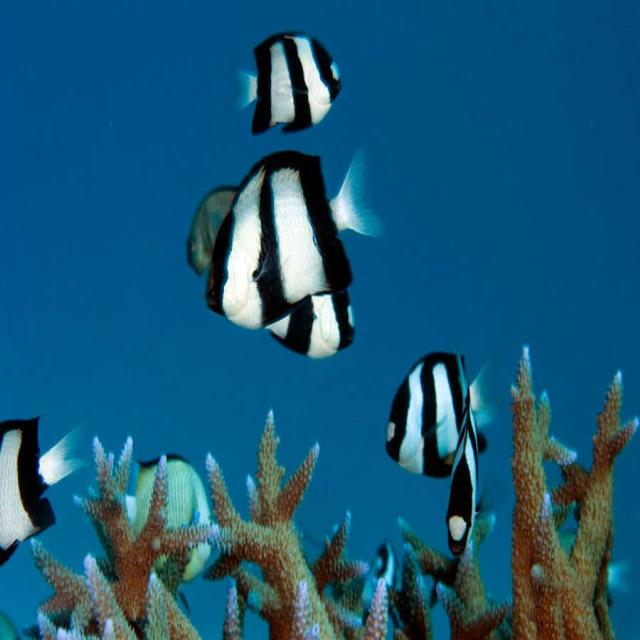Three_striped DasmselFish: (205, 151, 388, 328), (386, 345, 489, 480), (0, 414, 77, 573), (233, 29, 343, 132), (268, 286, 356, 362), (446, 382, 476, 562)
